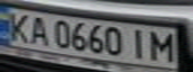0: (103, 25, 127, 57), (48, 18, 72, 50)
6: (84, 22, 106, 55), (69, 20, 90, 52)
A: (24, 13, 51, 46)
I: (127, 26, 151, 61)
K: (3, 10, 33, 43)
M: (148, 29, 178, 62)
